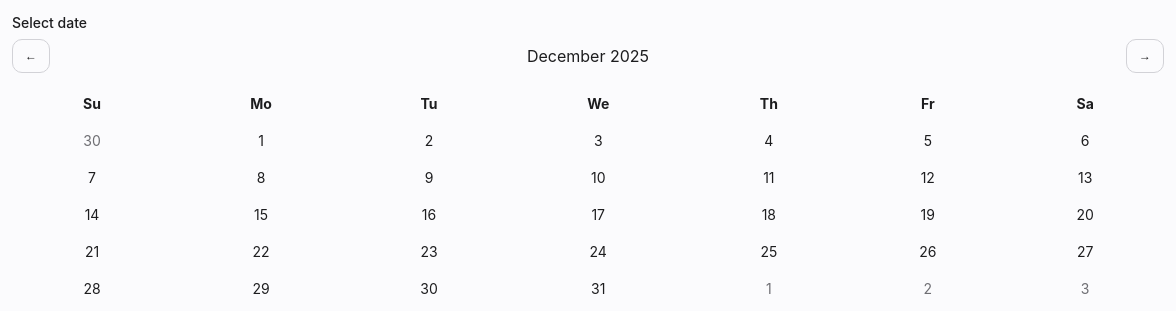
it: DatePicker Integration Tests › navigates to next month
Click the button named "Next".
click(1145, 56)  # box [1126,39,1164,73]
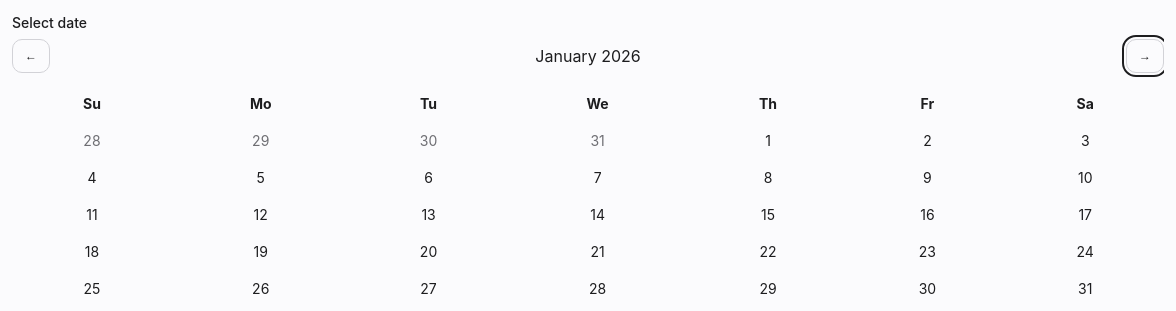
Check: the text "January 2026" is shown, box [535,44,641,68]
